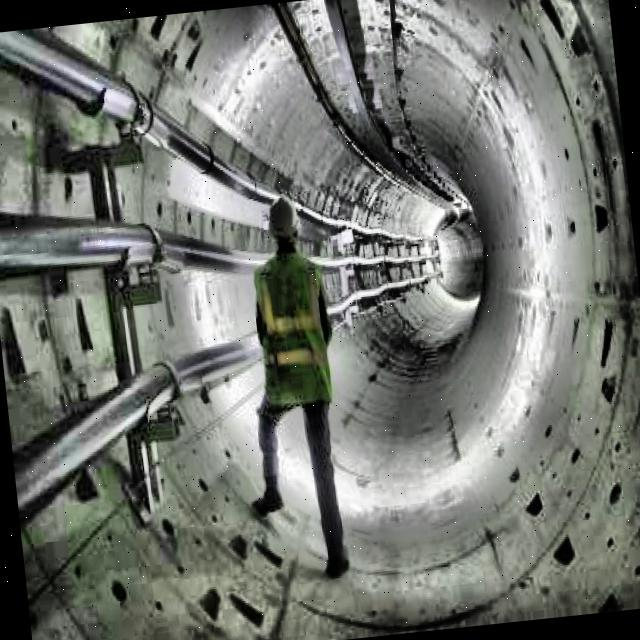helmet: (266, 194, 304, 258)
